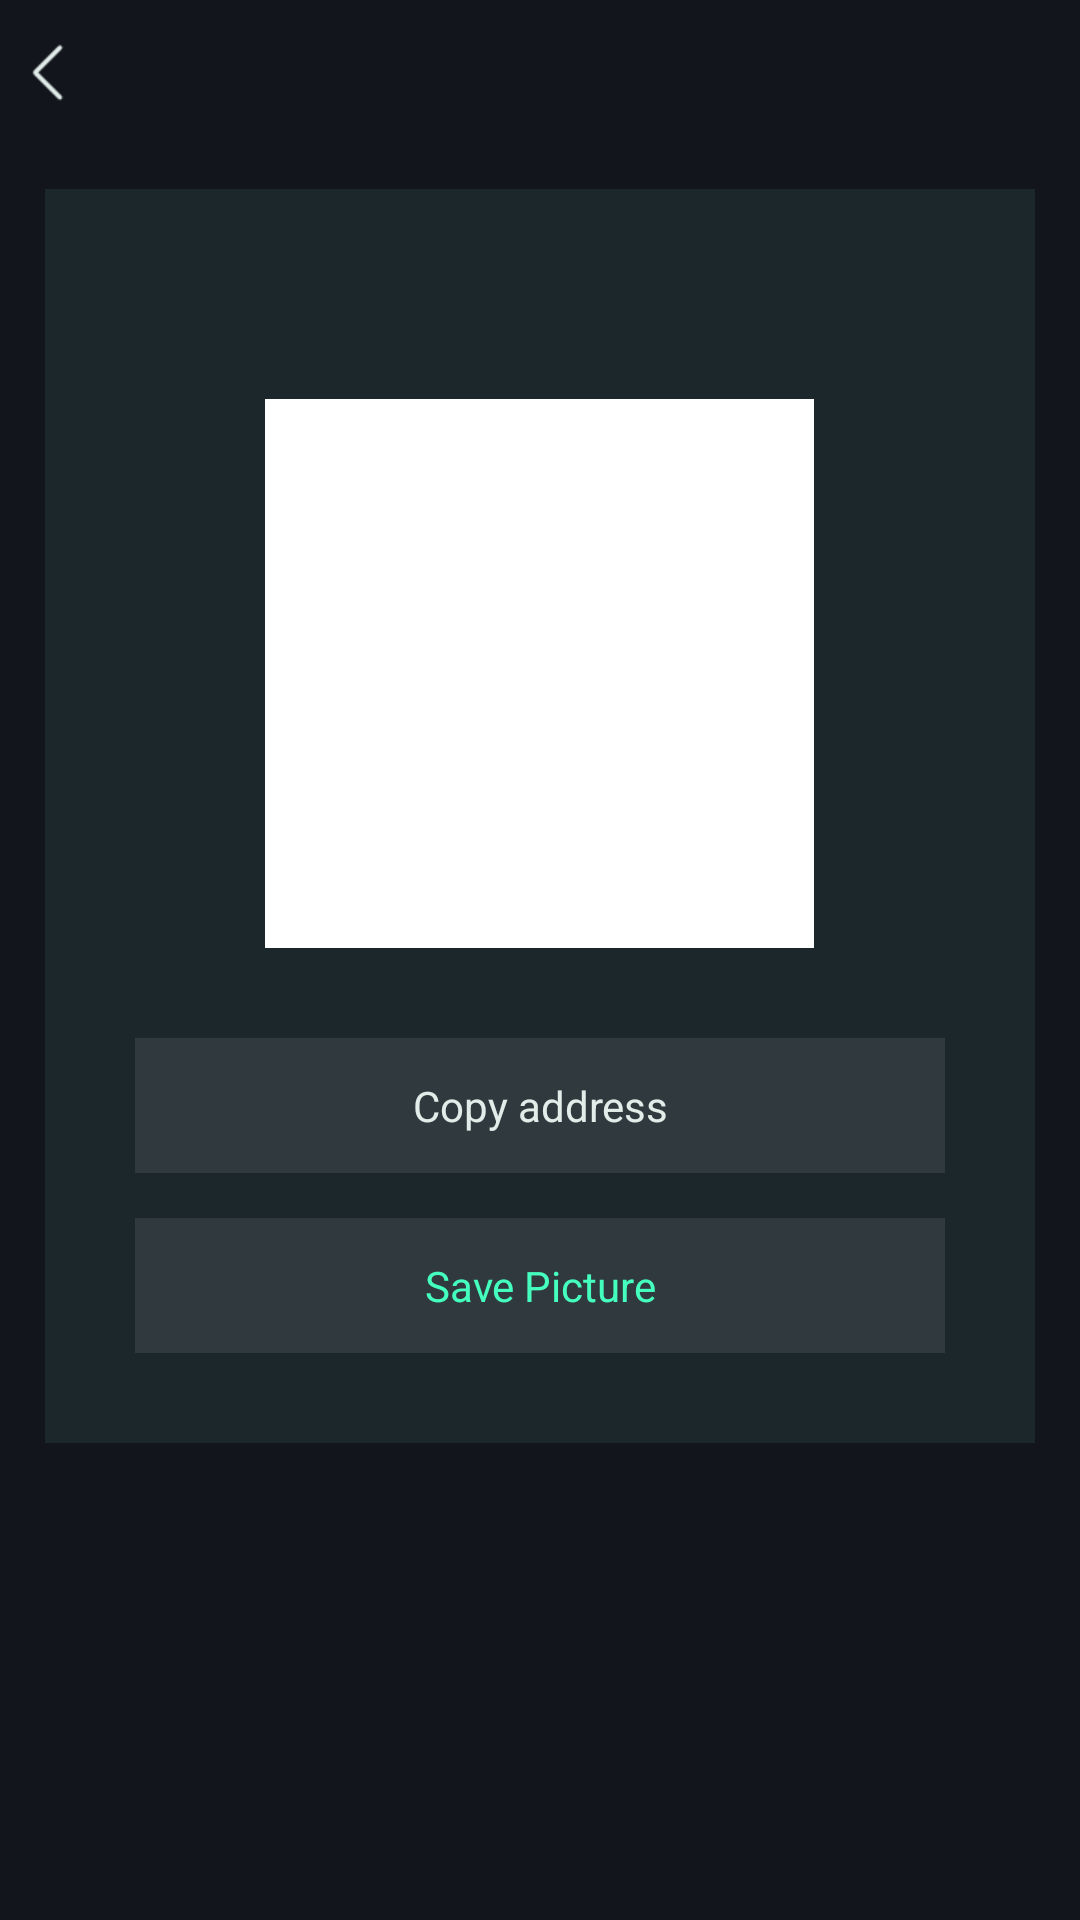

Where icons sit on this 1080 × 1920 app screen, as (left=x1, top=y1, right=x2, bottom=y2):
back: (left=32, top=45, right=63, bottom=101)
